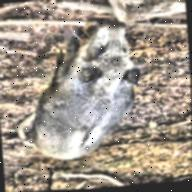boar: (14, 1, 149, 165)
